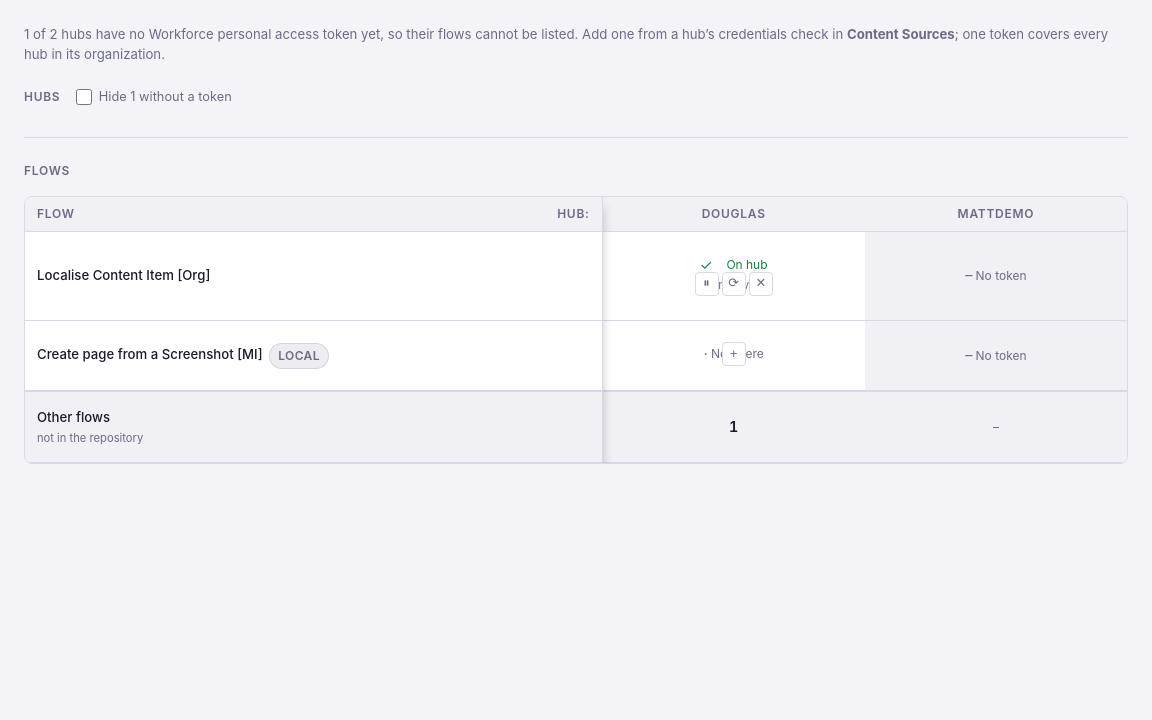
Scenario: FlowsTab — enabling and disabling › shows the paused state once the re-read lands, not a stuck tick
Click the button named "Disable douglas" at (706, 284), box [694,272,718,296]
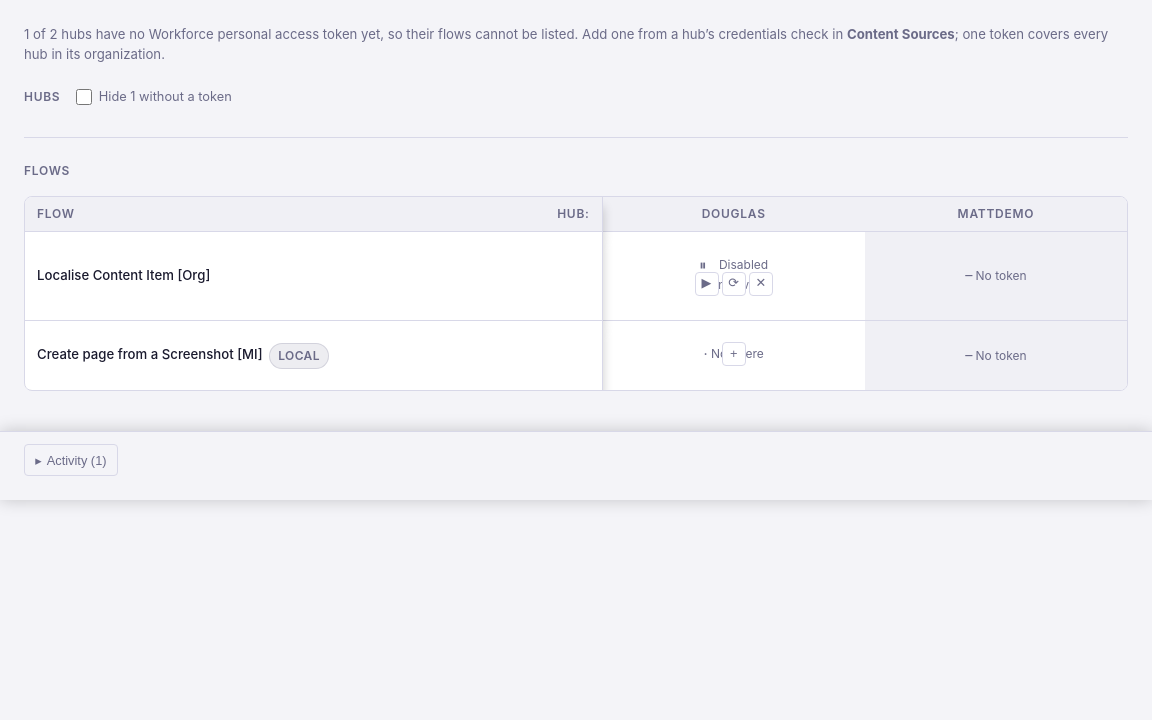
Result: the button named "Enable douglas" is shown at [694,272,718,296]
Result: the text "Disabled" is shown at [719,258,768,272]
